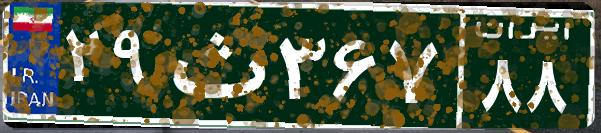2: (57, 26, 110, 107)
3: (273, 28, 330, 110)
6: (330, 28, 385, 110)
7: (385, 28, 445, 110)
8: (475, 38, 525, 113), (525, 38, 570, 115)
9: (110, 28, 158, 105)
ث: (158, 15, 273, 115)
